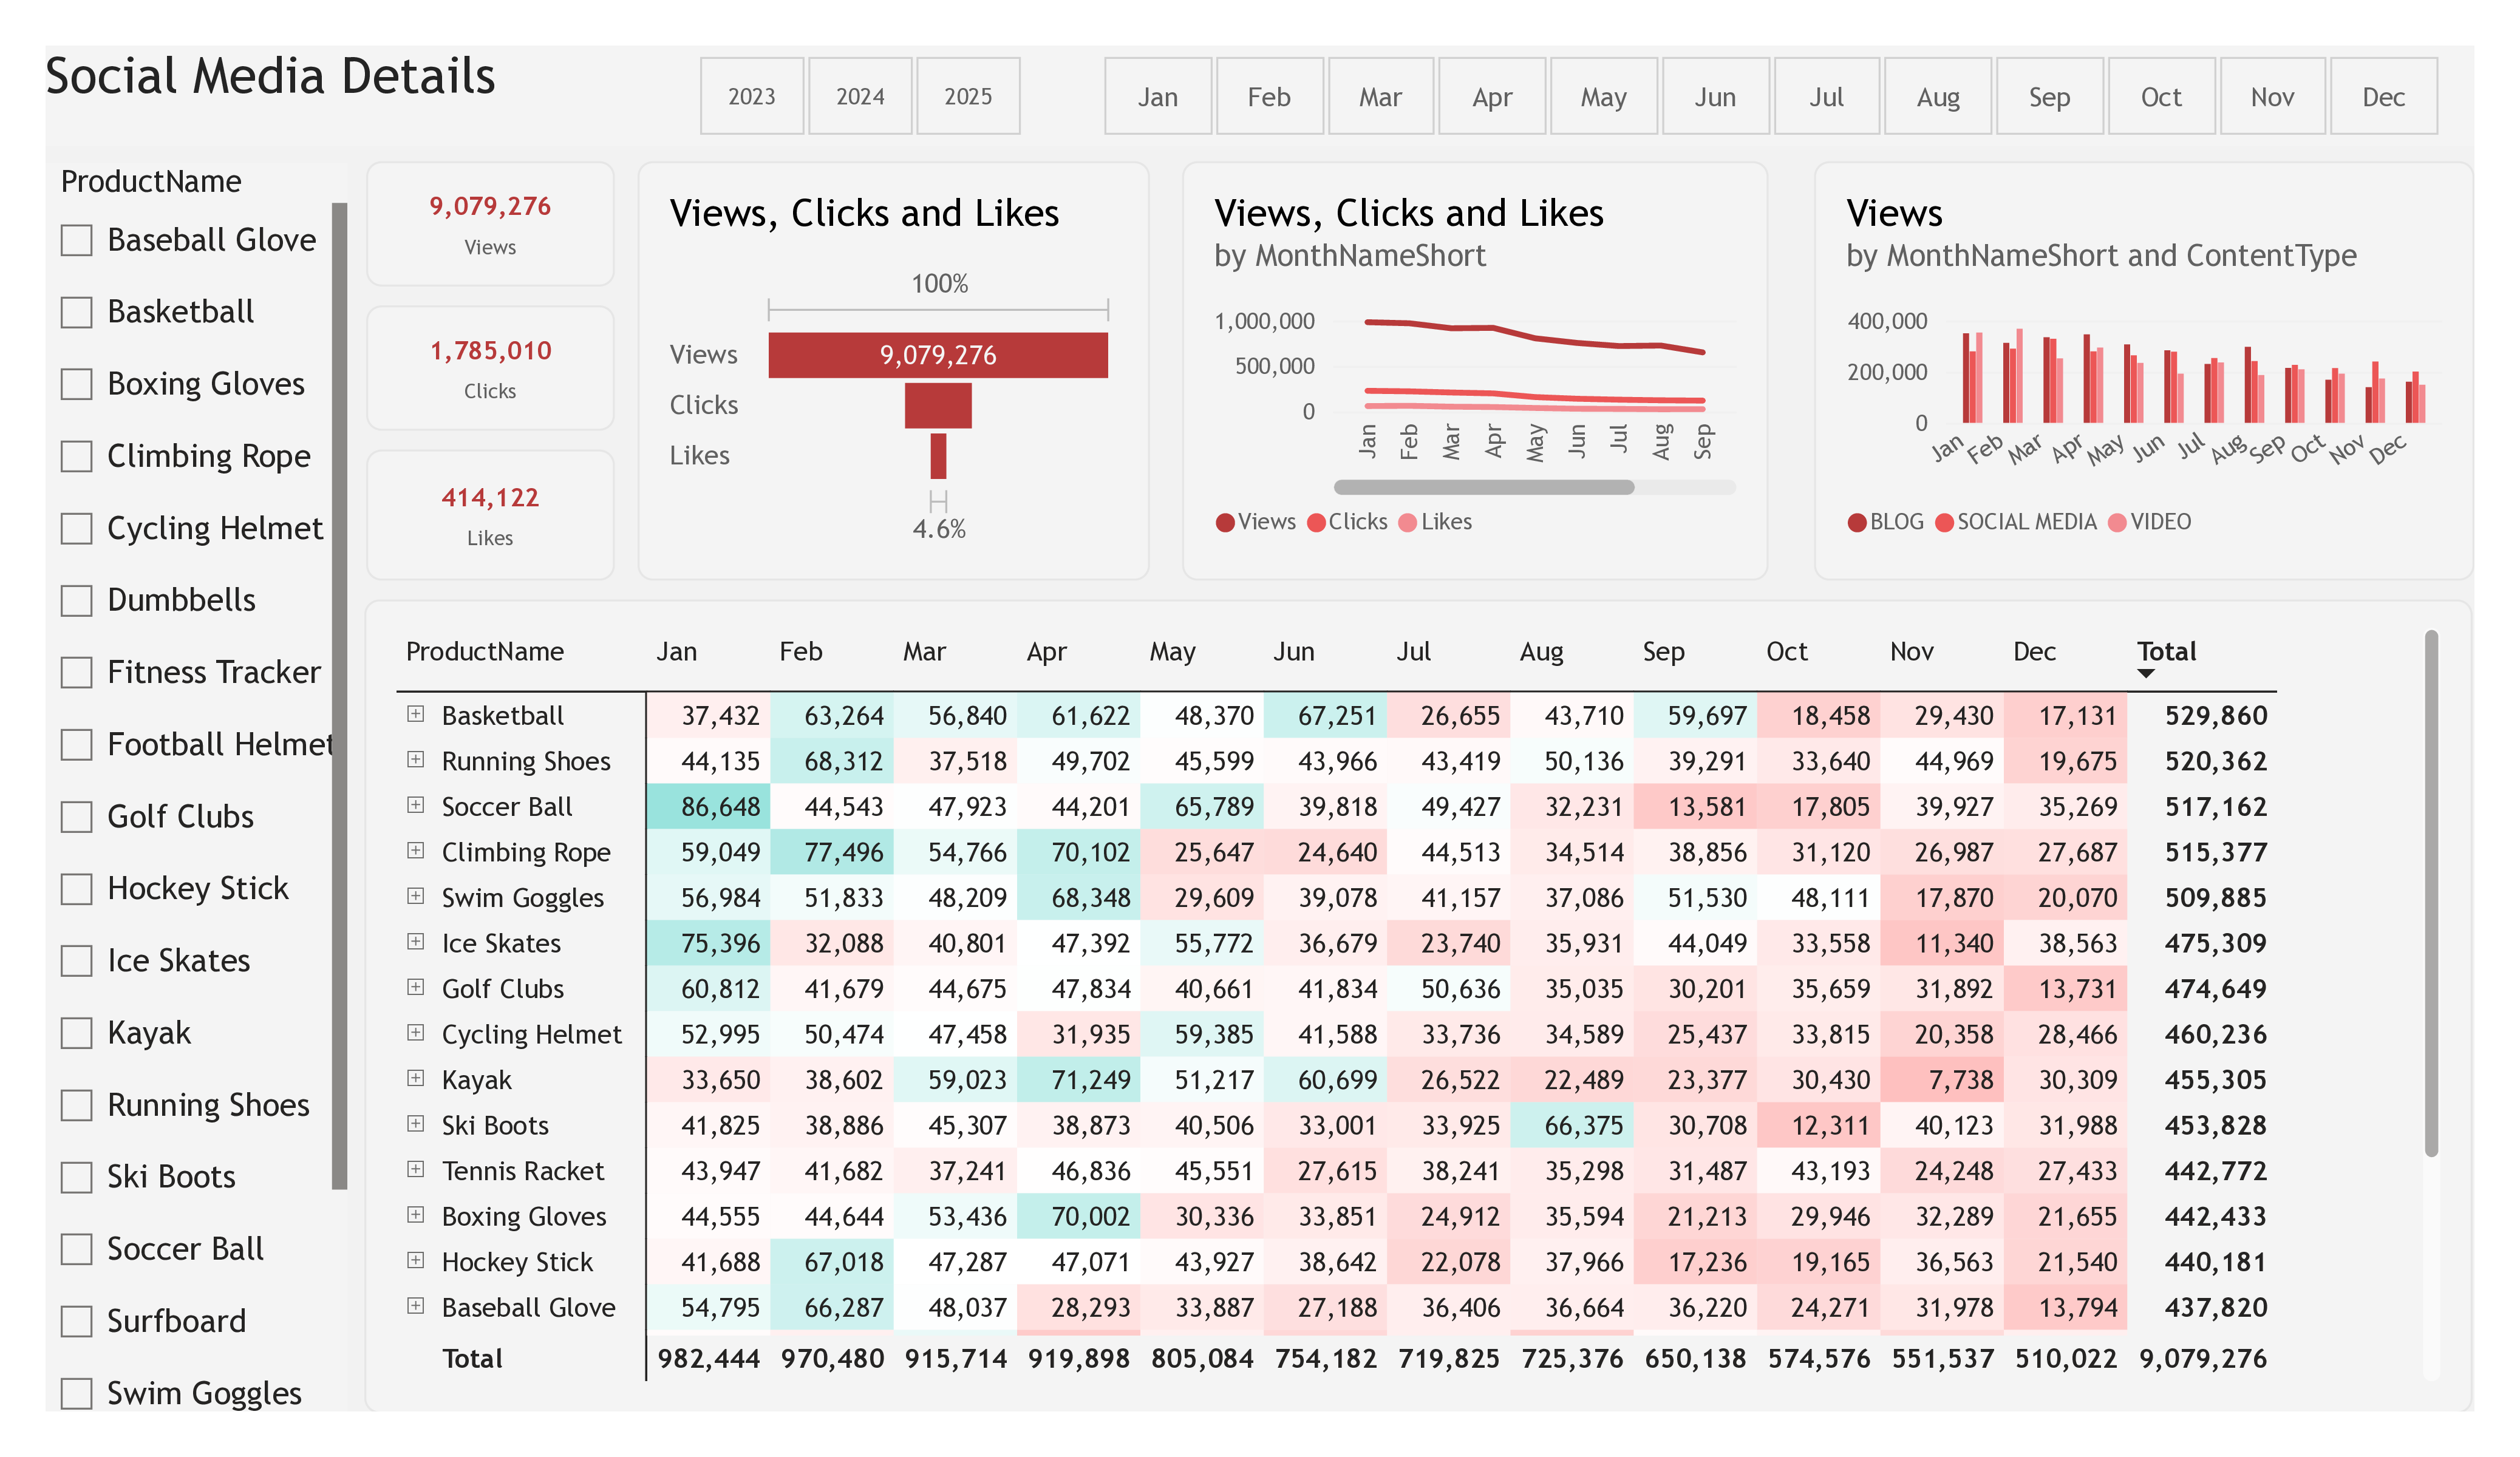

Layout of this report page (visuals, bound fields, positions):
{"tool":"powerbi","page":{"name":"Social Media Details","canvas":[1280,720],"ordinal":2},"visuals":[{"type":"textbox","box":[0,0,1280,52.6],"z":0},{"type":"slicer","fields":{"Values":["dim_products.ProductName"]},"box":[0,61.6,159.5,658.5],"z":1000},{"type":"lineChart","fields":{"Category":["Calendar.MonthNameShort"],"Y":["_Calculations.Views","_Calculations.Clicks","_Calculations.Likes"]},"box":[599,61.4,308.9,220.1],"z":2000},{"type":"funnel","fields":{"Y":["_Calculations.Views","_Calculations.Clicks","_Calculations.Likes"]},"box":[312.3,61.4,269.6,220.1],"z":3000},{"type":"card","fields":{"Values":["_Calculations.Views"]},"box":[168.9,61.4,131.4,65.4],"z":4000},{"type":"card","fields":{"Values":["_Calculations.Clicks"]},"box":[168.9,137.2,131.4,65.4],"z":5000},{"type":"card","fields":{"Values":["_Calculations.Likes"]},"box":[168.9,213,131.4,68.5],"z":6000},{"type":"slicer","fields":{"Values":["Calendar.MonthNameShort"]},"box":[536.8,4.1,743.2,44.4],"z":7000},{"type":"slicer","fields":{"Values":["Calendar.Year"]},"box":[324.1,4.1,208.5,44.4],"z":8000},{"type":"pivotTable","fields":{"Columns":["Calendar.MonthNameShort"],"Rows":["dim_products.ProductName","fact_engagement.ContentType"],"Values":["_Calculations.Views"]},"box":[168.3,292.1,1110.7,428.4],"z":9000},{"type":"clusteredColumnChart","fields":{"Category":["Calendar.MonthNameShort"],"Series":["fact_engagement.ContentType"],"Y":["_Calculations.Views"]},"box":[931.7,61.4,348.1,220.1],"z":10000}]}

Visuals, with their boxes on the page's 1280x720 design canvas (x1, y1, x2, y2). These are canvas units, not pixel positions in the 2520x1457 screenshot, which may show the page scaled, cropped or inside an application window:
textbox: box(0, 0, 1280, 53)
slicer - dim_products.ProductName: box(0, 62, 160, 720)
lineChart - Calendar.MonthNameShort x _Calculations.Views: box(599, 61, 908, 282)
funnel - _Calculations.Views x _Calculations.Clicks: box(312, 61, 582, 282)
card - _Calculations.Views: box(169, 61, 300, 127)
card - _Calculations.Clicks: box(169, 137, 300, 203)
card - _Calculations.Likes: box(169, 213, 300, 282)
slicer - Calendar.MonthNameShort: box(537, 4, 1280, 48)
slicer - Calendar.Year: box(324, 4, 533, 48)
pivotTable - Calendar.MonthNameShort x dim_products.ProductName: box(168, 292, 1279, 720)
clusteredColumnChart - Calendar.MonthNameShort x fact_engagement.ContentType: box(932, 61, 1280, 282)
